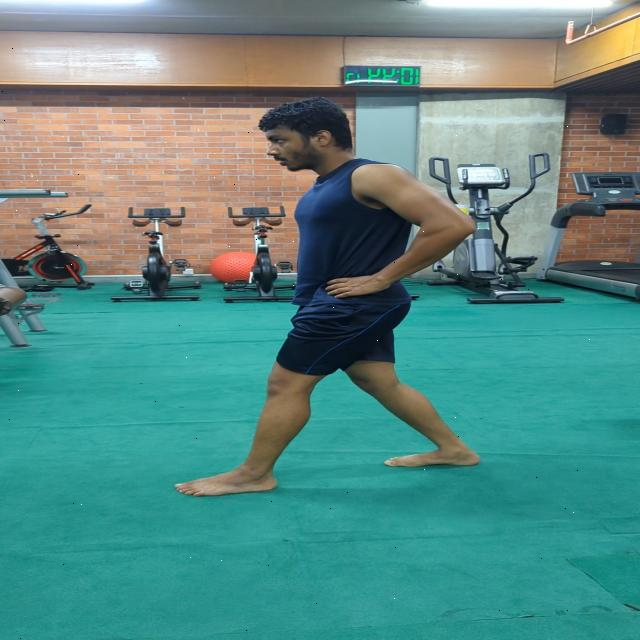Normal_Lunges: (168, 90, 502, 503)
